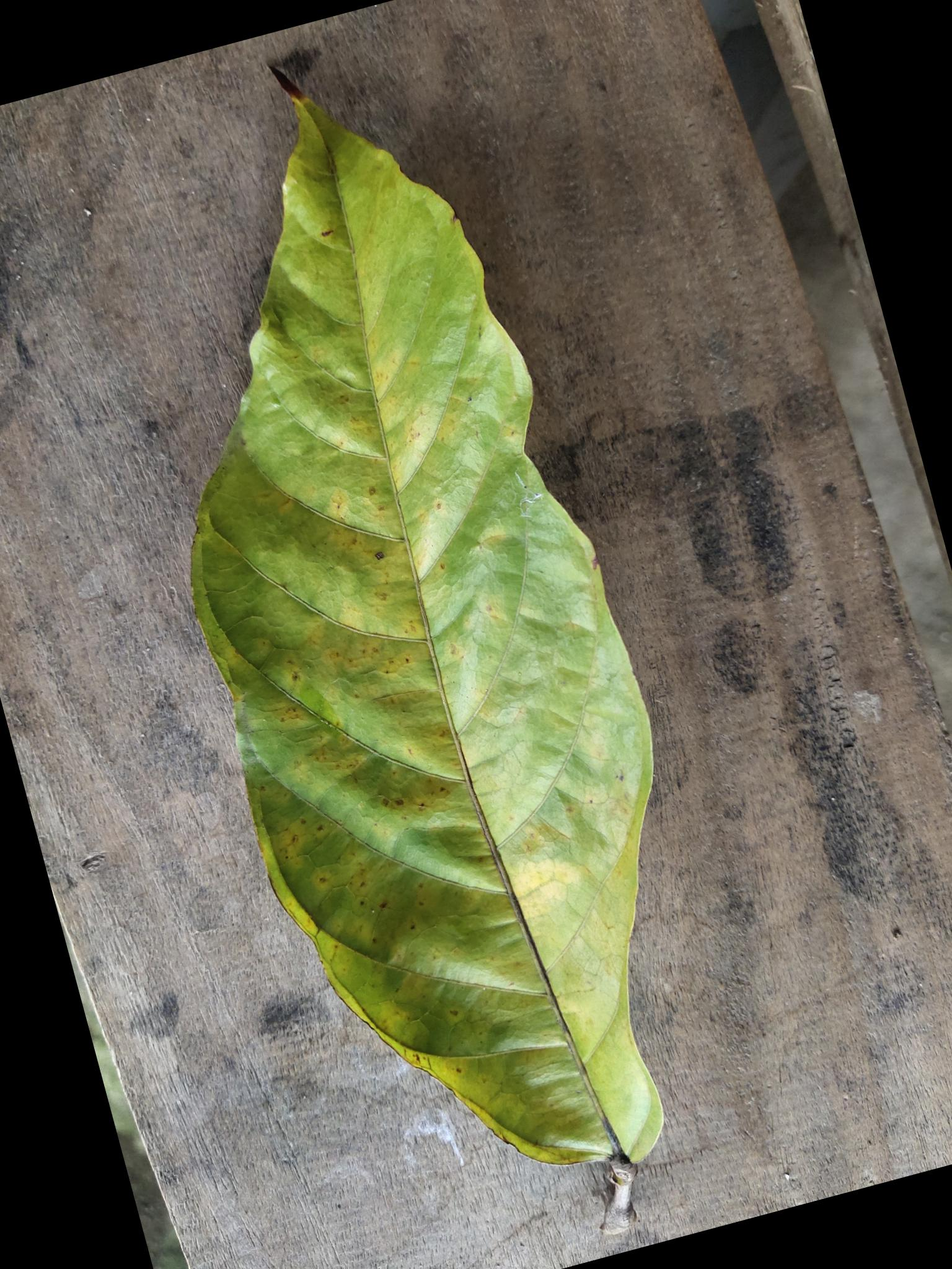Fosforo: (185, 87, 666, 1170)
